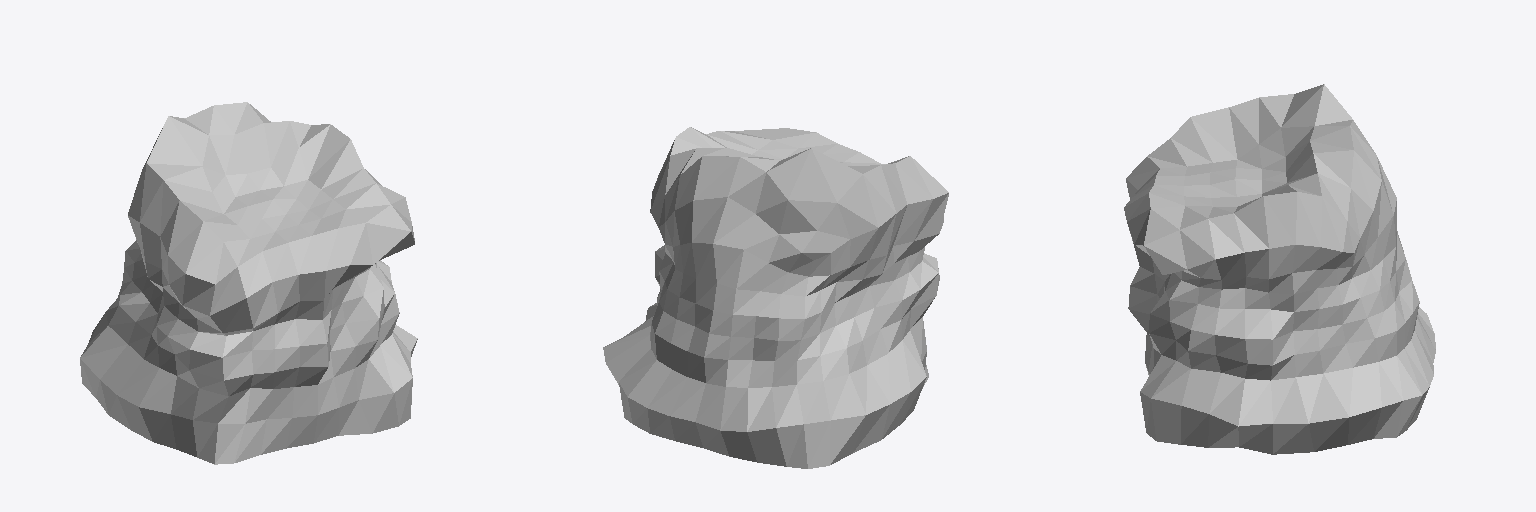
File: rock.obj
3 renders of one model, left to right at view 1: azimuth 30°, elevation 25°; view 2: azimuth 150°, elevation 25°; view 3: azimuth 270°, elevation 25°, orthographic.
Parts seen in each view (by area): view 1: pedestal; view 2: pedestal; view 3: pedestal.
Boxes of the visible parts, <box> form: pedestal: <box>80,102,417,464</box>; pedestal: <box>603,127,948,468</box>; pedestal: <box>1124,84,1435,454</box>.
Bounding box in the file's own units: 72.22 × 68.54 × 69.32.